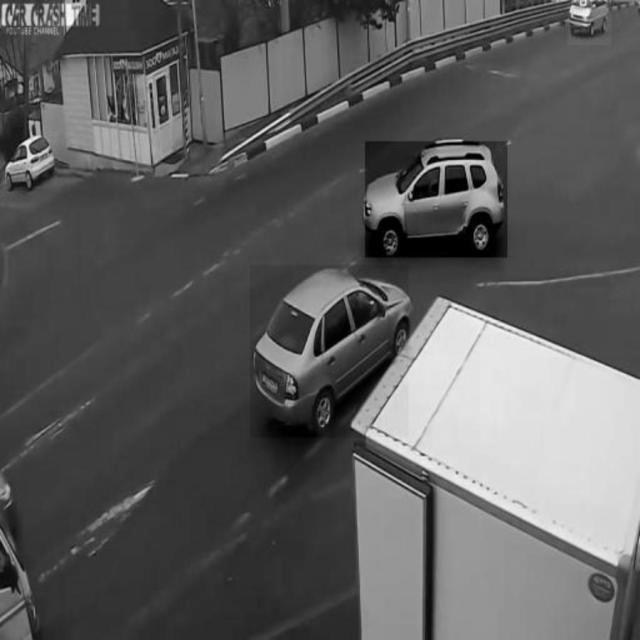vehicle: (250, 266, 408, 438), (365, 141, 507, 257), (3, 132, 58, 189), (568, 1, 612, 46)
